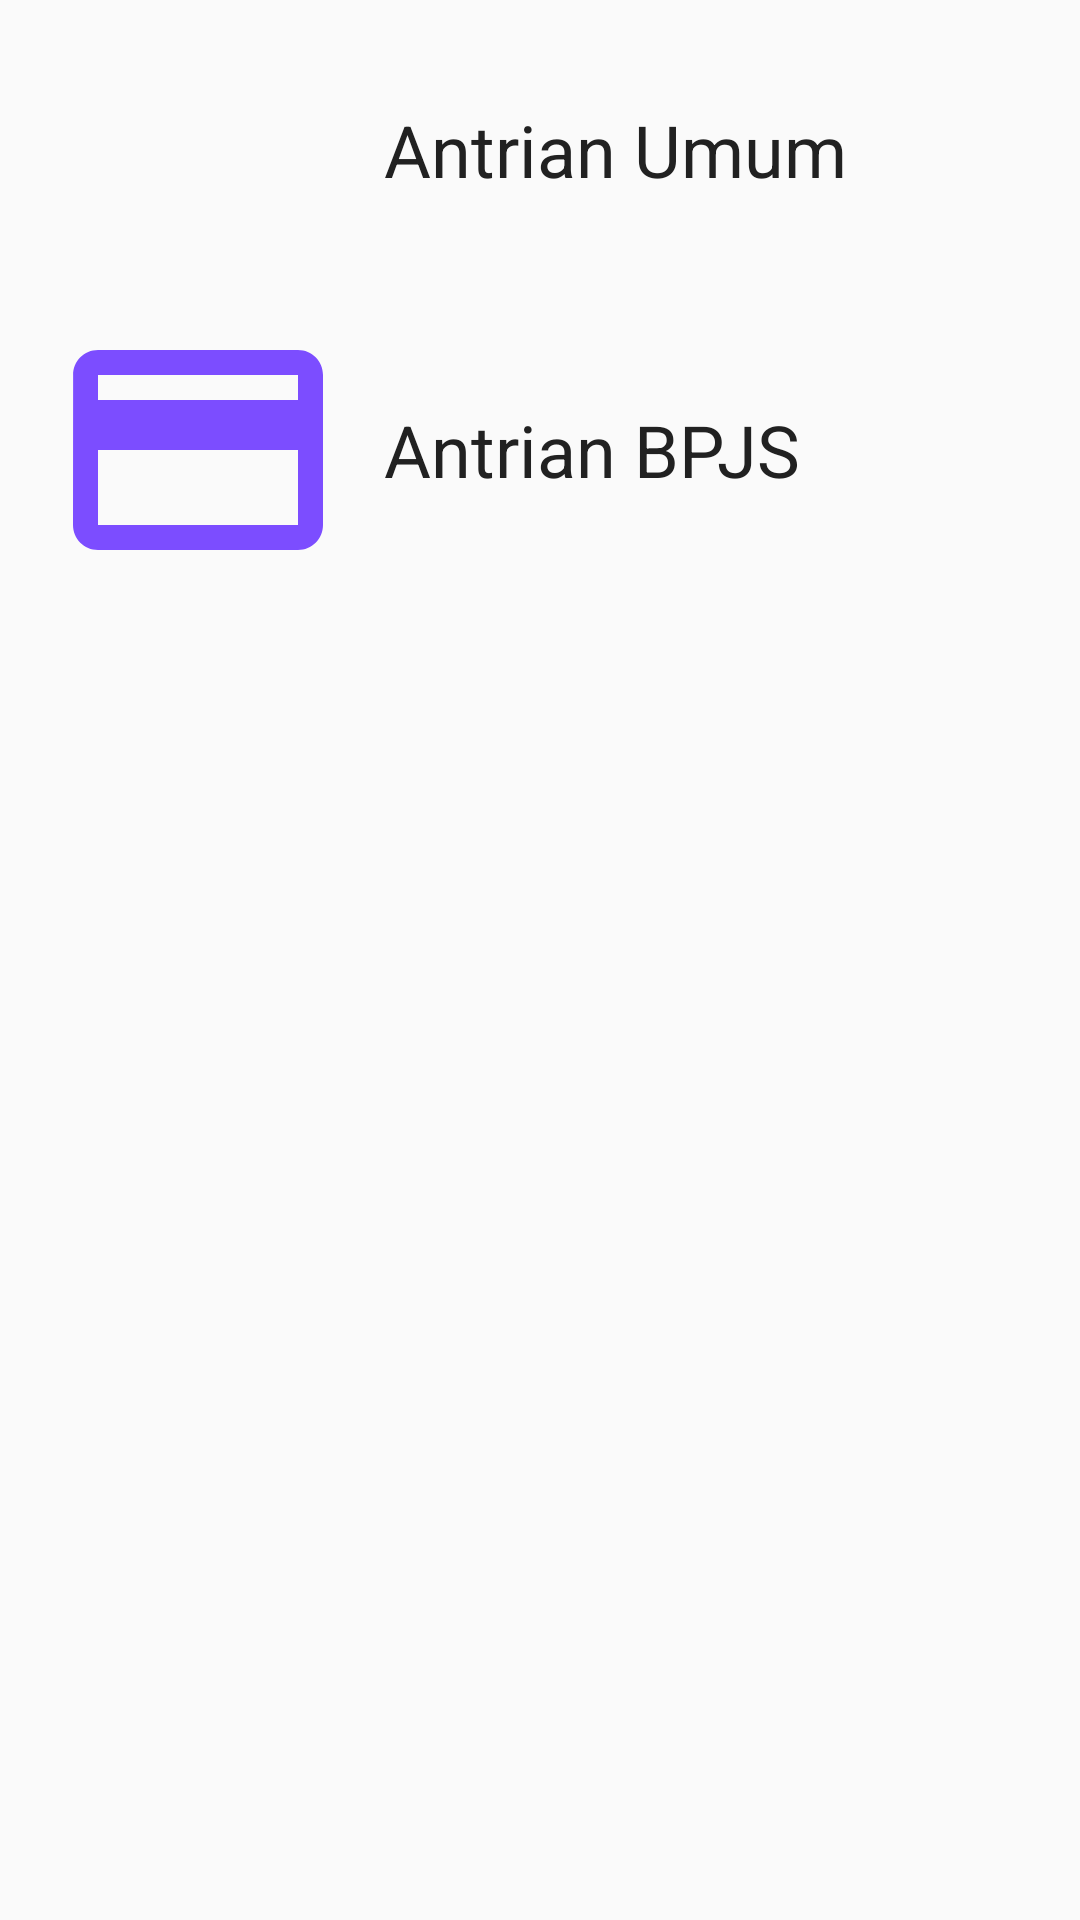

Icon click points for this 1080 × 1920 phone screenshot, format [x,y]:
credit card: [198,450]
